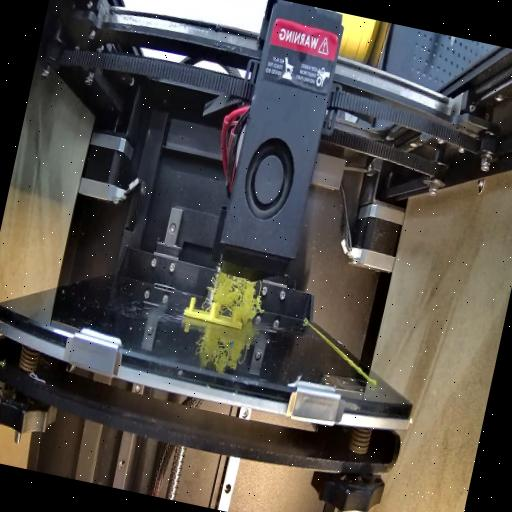spaghetti: (202, 266, 268, 322)
